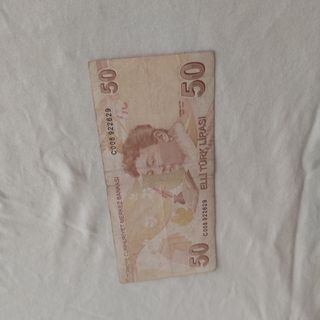50TLBack: (87, 50, 217, 283)
